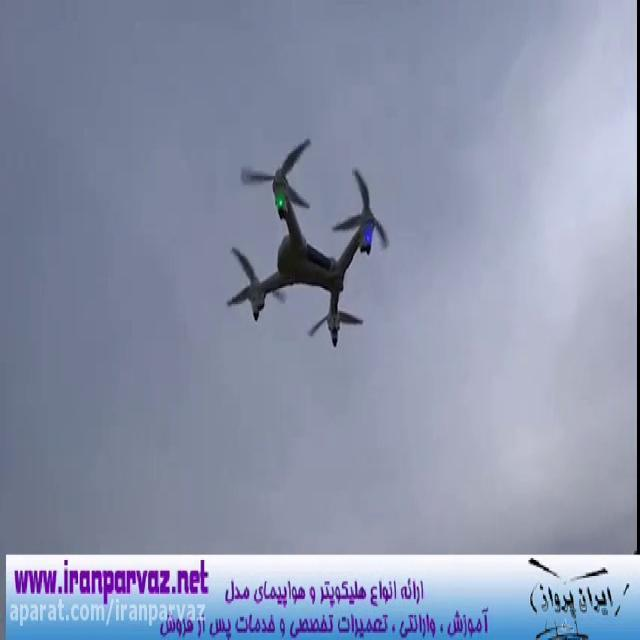drone: (220, 132, 392, 352)
